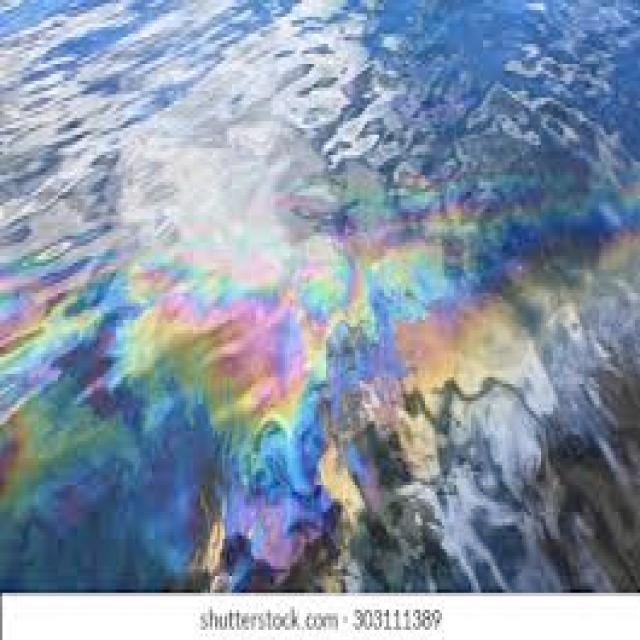oil: (3, 169, 640, 573)
